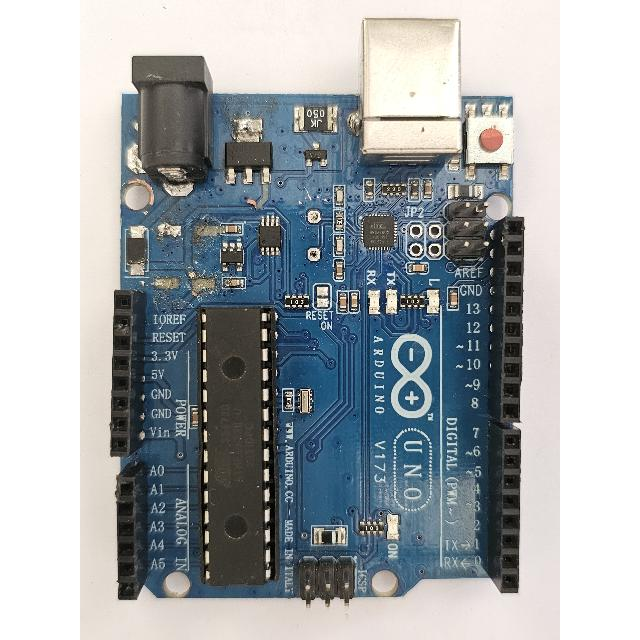missing_capacitors: (150, 205, 222, 300)
missing_crystal_os: (296, 184, 331, 274)
